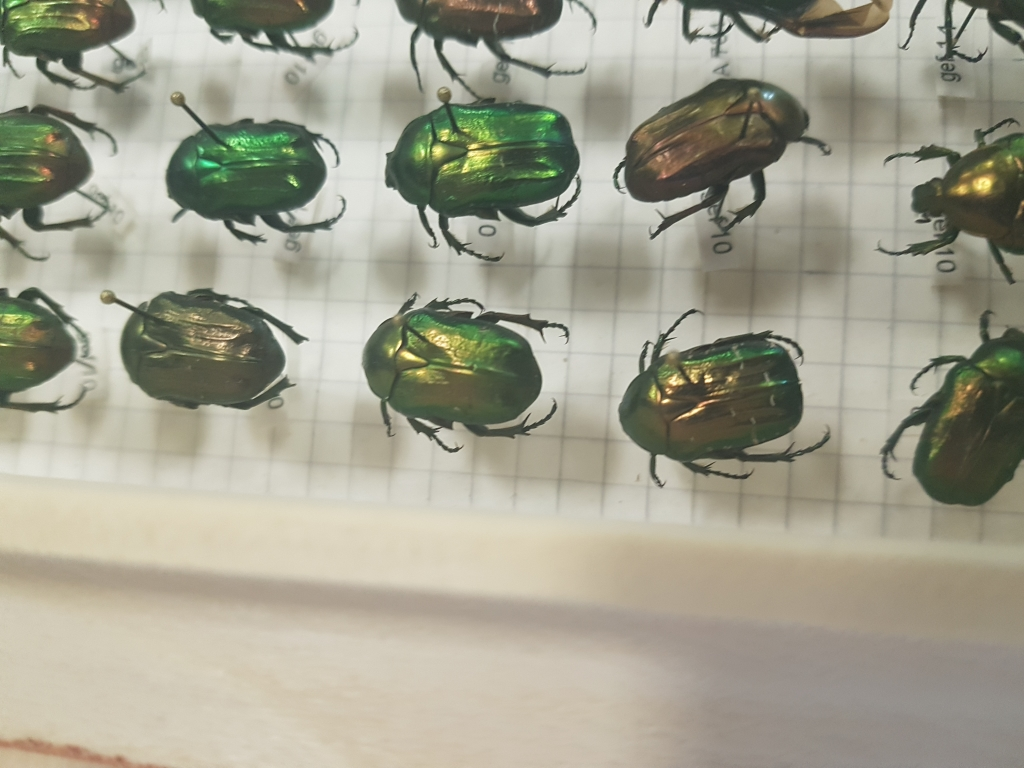Cetonia_aurata: (596, 306, 842, 493), (356, 278, 575, 465), (378, 90, 602, 264)
